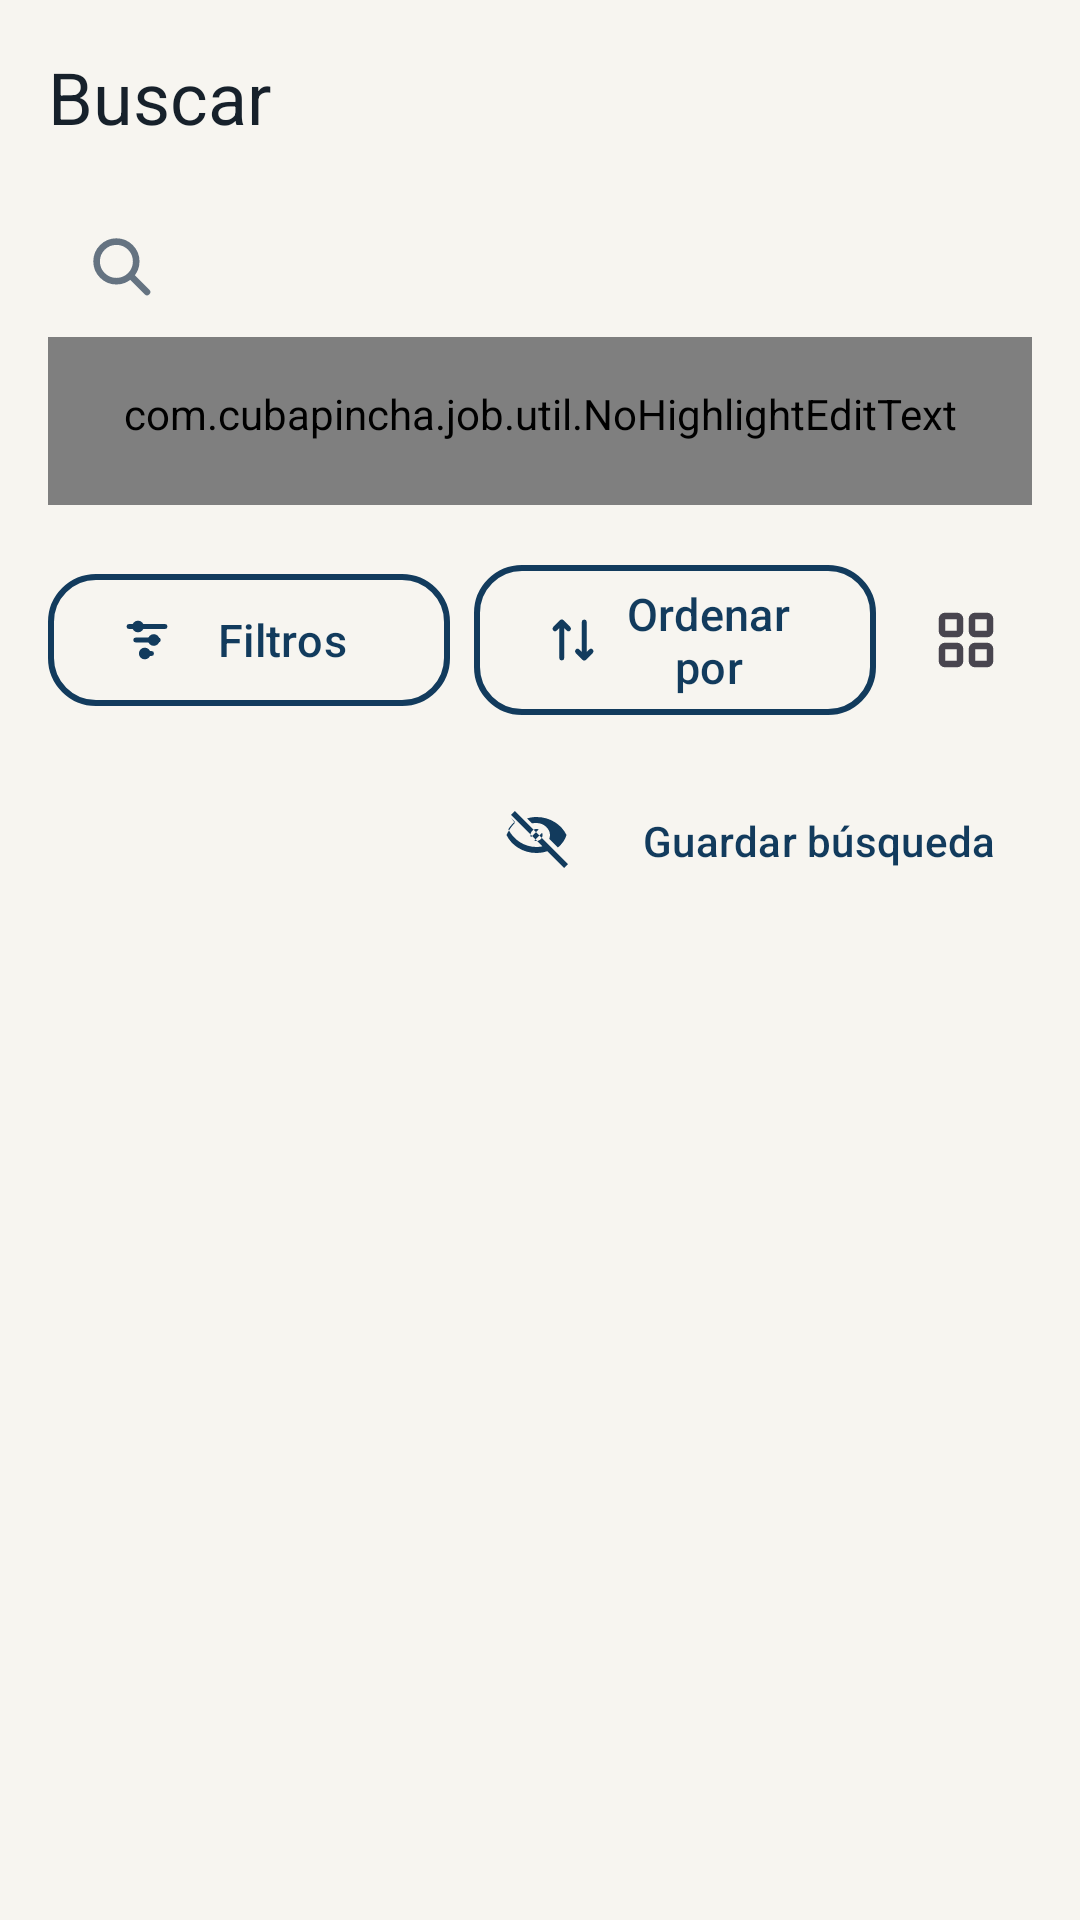

Icon bounding boxes for this 1080x1920 phone screenshot, format (x1, y1, x2, y2):
Cambiar vista: (938, 612, 994, 668)
